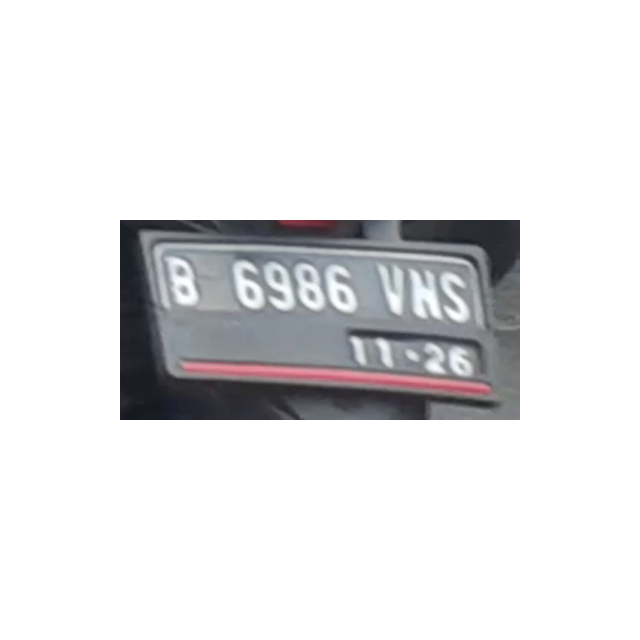contain: (405, 253, 443, 317), (162, 248, 200, 306), (231, 253, 267, 314), (263, 250, 296, 312), (294, 255, 327, 314), (327, 260, 358, 320), (442, 264, 473, 323), (379, 257, 409, 317)
